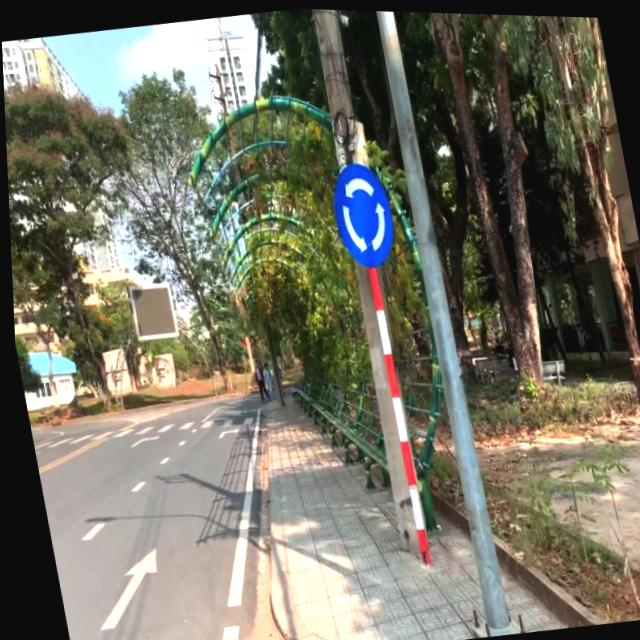Noi giao nhau chay theo vong xuyen: (324, 156, 399, 269)
